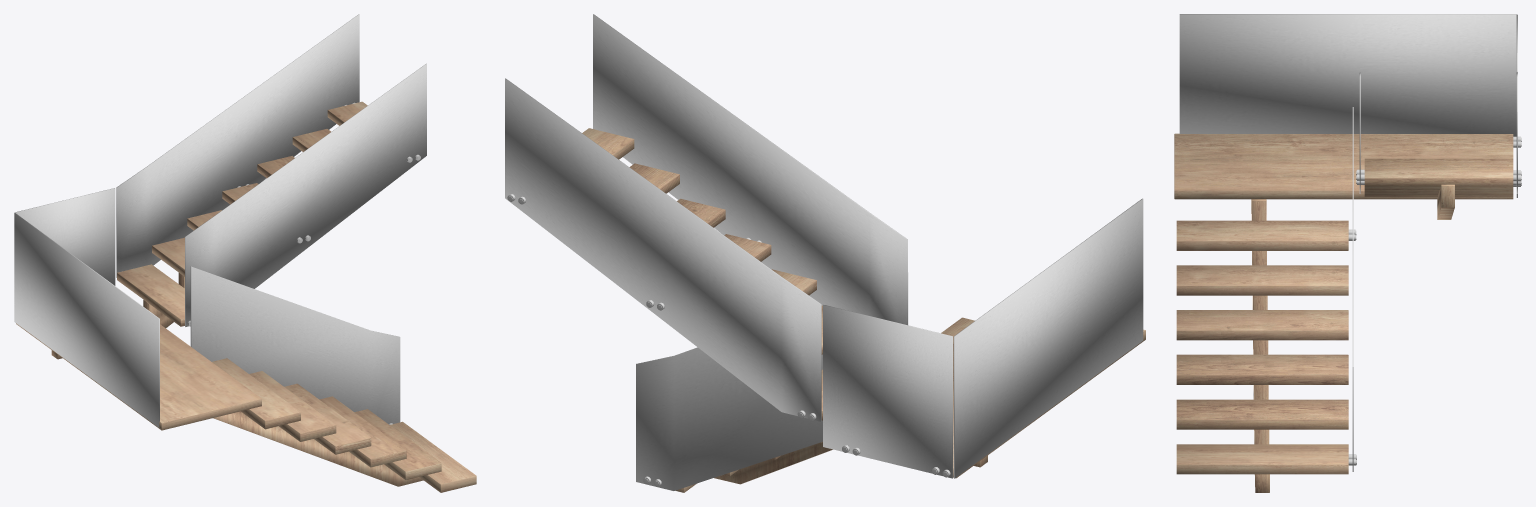
The model's file is Escaleras.obj.
3 renders of one model, left to right at view 1: azimuth 30°, elevation 25°; view 2: azimuth 150°, elevation 25°; view 3: azimuth 270°, elevation 25°, orthographic. The views are drawn at different scales.
Parts seen in each view (by area): view 1: Step, Glass_Hand_Rail004, Glass_Hand_Rail002, Glass_Hand_Rail001, Glass_Hand_Rail005, Glass_Hand_Rail003, Structure001; view 2: Glass_Hand_Rail004, Glass_Hand_Rail002, Glass_Hand_Rail005, Glass_Hand_Rail003, Glass_Hand_Rail001, Step, Structure001; view 3: Step, Glass_Hand_Rail005, Structure001, Glass_Hand_Rail001, Structure002.
Part boxes in pixels (x1=…): Step: x1=16, y1=101, x2=476, y2=492; Glass_Hand_Rail004: x1=116, y1=14, x2=359, y2=277; Glass_Hand_Rail002: x1=185, y1=63, x2=426, y2=326; Glass_Hand_Rail001: x1=190, y1=266, x2=400, y2=424; Glass_Hand_Rail005: x1=14, y1=212, x2=159, y2=427; Glass_Hand_Rail003: x1=15, y1=188, x2=115, y2=285; Structure001: x1=213, y1=411, x2=423, y2=486; Glass_Hand_Rail004: x1=505, y1=78, x2=821, y2=421; Glass_Hand_Rail002: x1=593, y1=14, x2=907, y2=325; Glass_Hand_Rail005: x1=953, y1=198, x2=1143, y2=478; Glass_Hand_Rail003: x1=823, y1=305, x2=952, y2=478; Glass_Hand_Rail001: x1=636, y1=272, x2=908, y2=490; Step: x1=582, y1=128, x2=1145, y2=492; Structure001: x1=714, y1=442, x2=832, y2=484; Step: x1=1174, y1=133, x2=1513, y2=474; Glass_Hand_Rail005: x1=1179, y1=14, x2=1516, y2=136; Structure001: x1=1251, y1=199, x2=1269, y2=492; Glass_Hand_Rail001: x1=1352, y1=107, x2=1353, y2=471; Structure002: x1=1437, y1=184, x2=1454, y2=219.
Bounding box in the file's own units: 28.31 × 28.85 × 20.96.
